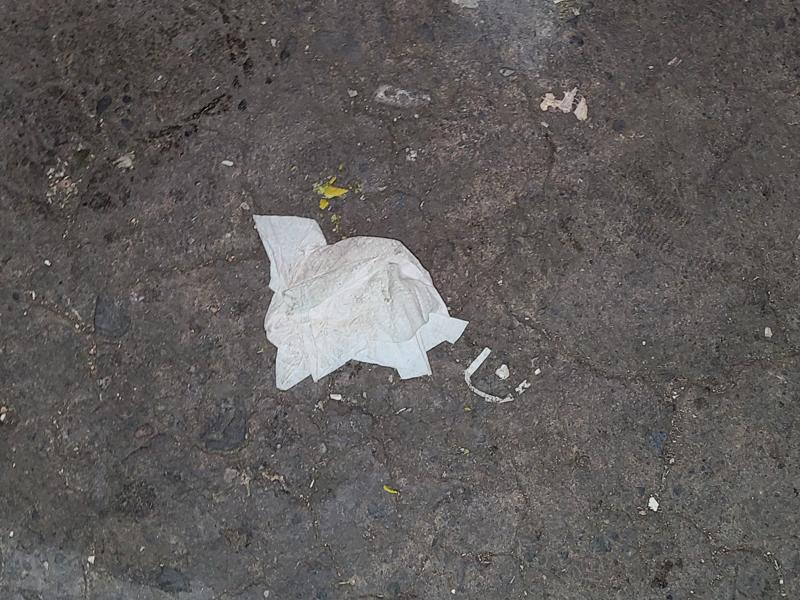papel: (252, 216, 468, 392)
